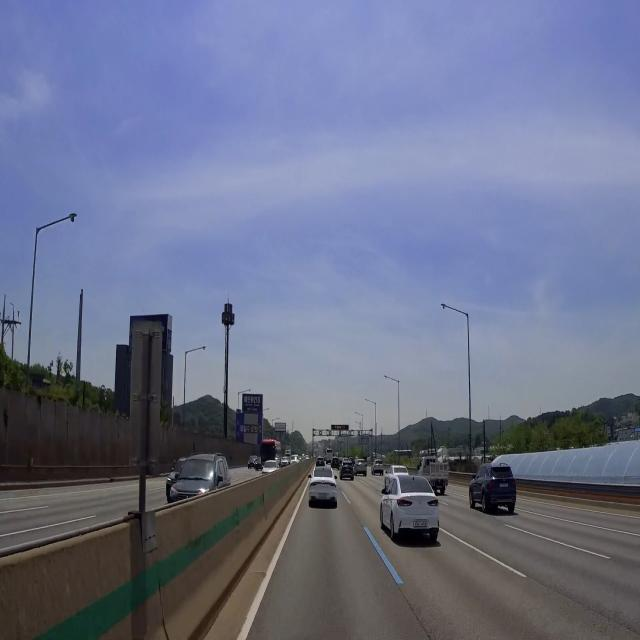car: (412, 517, 431, 533), (316, 489, 331, 504), (498, 477, 511, 494)
